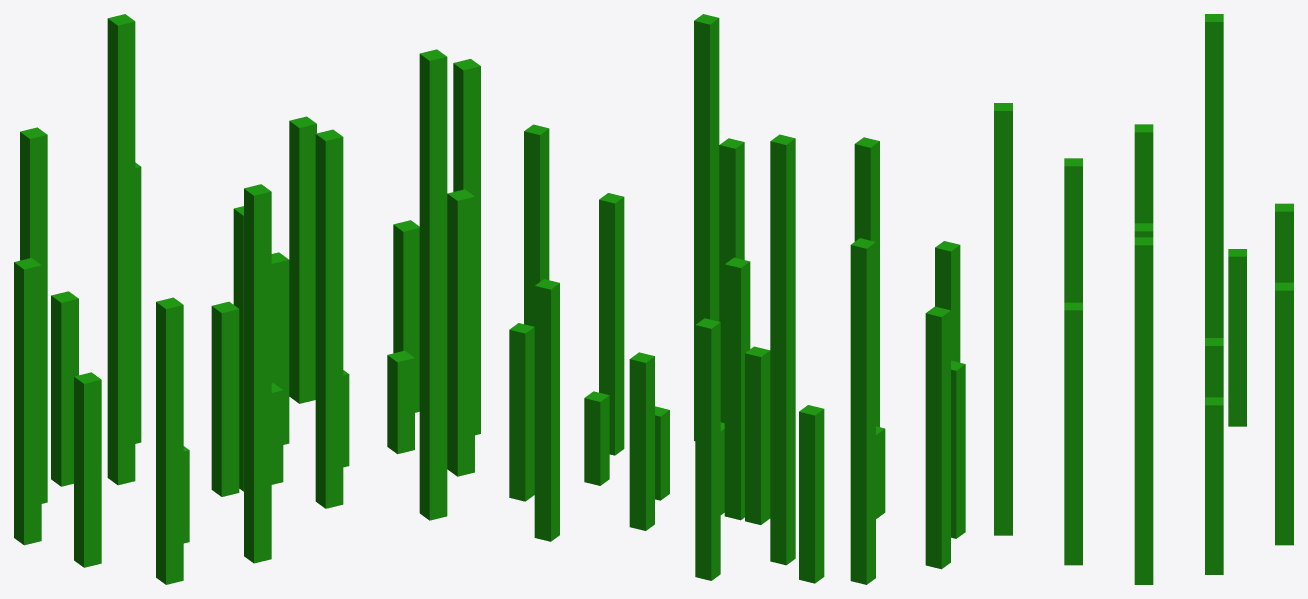
Rendered from PlanterA.fbx.
The picture shows the model from 3 angles, left to right: view 1: azimuth 30°, elevation 25°; view 2: azimuth 150°, elevation 25°; view 3: azimuth 270°, elevation 25°; orthographic projection. The views are drawn at different scales.
Parts seen in each view (by area): view 1: Cube.017, Cube.006, Cube.003, Cube.018, Cube.009, Cube.014, Cube.022, Cube.007, Cube.011, Cube.013, Cube.012, Cube.020 (+9 smaller); view 2: Cube.017, Cube.013, Cube.006, Cube.007, Cube.019, Cube.022, Cube.009, Cube.001, Cube.010, Cube.011, Cube.004, Cube.015 (+8 smaller); view 3: Cube.006, Cube.020, Cube.017, Cube.007, Cube.009, Cube.010, Cube.015, Cube.003, Cube.022, Cube.019, Cube.004.
Boxes of the visible parts, x1,y1,x2,y2 form: Cube.017: (107, 14, 135, 485); Cube.006: (419, 49, 447, 520); Cube.003: (315, 129, 343, 508); Cube.018: (244, 184, 271, 563); Cube.009: (447, 189, 474, 476); Cube.014: (156, 297, 183, 584); Cube.022: (14, 258, 41, 545); Cube.007: (289, 116, 316, 403); Cube.011: (211, 301, 239, 496); Cube.013: (20, 127, 47, 503); Cube.012: (74, 372, 101, 567); Cube.020: (453, 59, 480, 435); Cube.017: (770, 134, 795, 565); Cube.013: (850, 238, 875, 584); Cube.006: (694, 14, 719, 440); Cube.007: (534, 279, 559, 541); Cube.019: (695, 318, 720, 580); Cube.022: (925, 306, 950, 569); Cube.009: (599, 193, 624, 455); Cube.001: (724, 257, 750, 520); Cube.010: (509, 323, 534, 501); Cube.011: (745, 346, 770, 524); Cube.004: (629, 352, 654, 530); Cube.015: (799, 405, 824, 583); Cube.006: (994, 103, 1012, 535); Cube.020: (1134, 237, 1153, 584); Cube.017: (1205, 14, 1223, 337); Cube.007: (1275, 282, 1293, 545); Cube.009: (1064, 302, 1082, 565); Cube.010: (1205, 397, 1223, 574); Cube.015: (1228, 249, 1246, 426); Cube.003: (1064, 158, 1082, 302); Cube.022: (1134, 124, 1153, 223); Cube.019: (1275, 203, 1293, 282); Cube.004: (1205, 338, 1223, 397).
Bounding box in the file's own units: 172 × 165 × 106.
